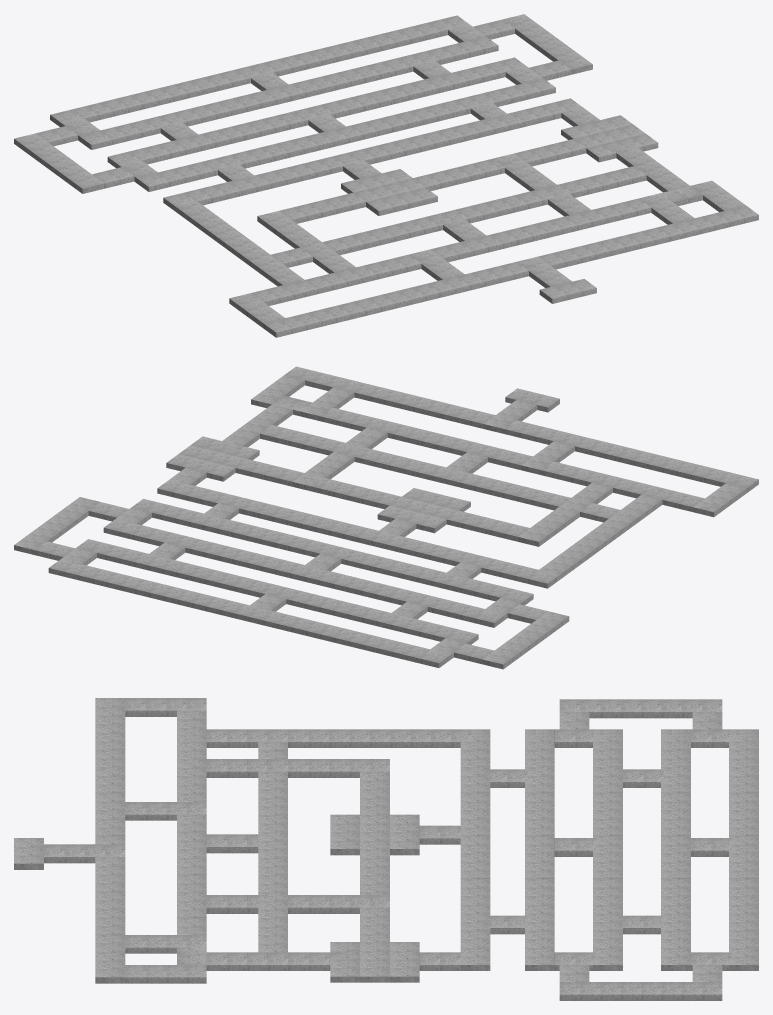
The model's file is TrainStationMap.FBX.
3 renders of one model, top to bottom at view 1: azimuth 30°, elevation 25°; view 2: azimuth 150°, elevation 25°; view 3: azimuth 270°, elevation 25°, orthographic. The views are drawn at different scales.
Bounding box in the file's own units: 206802 × 2000 × 219583.
1 material, 1 textured.
